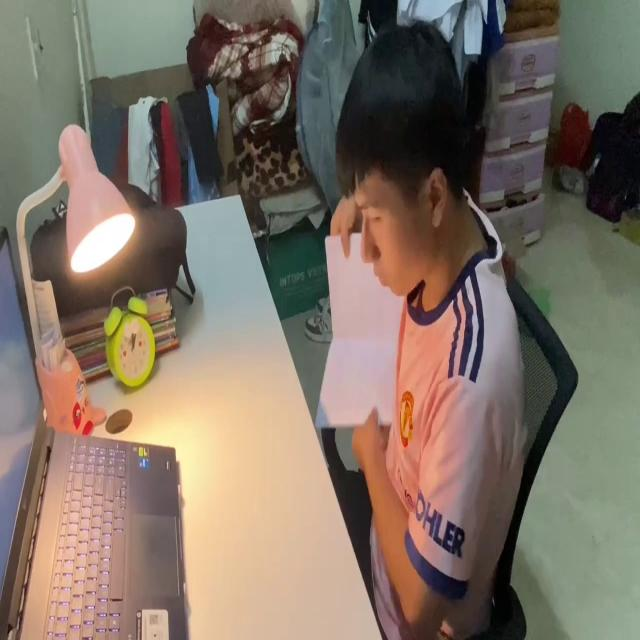book: (314, 226, 401, 432)
laptop: (0, 223, 187, 640)
student: (331, 19, 527, 640)
